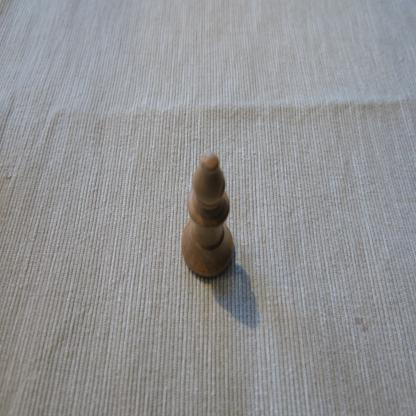white-bishop: (180, 150, 235, 280)
